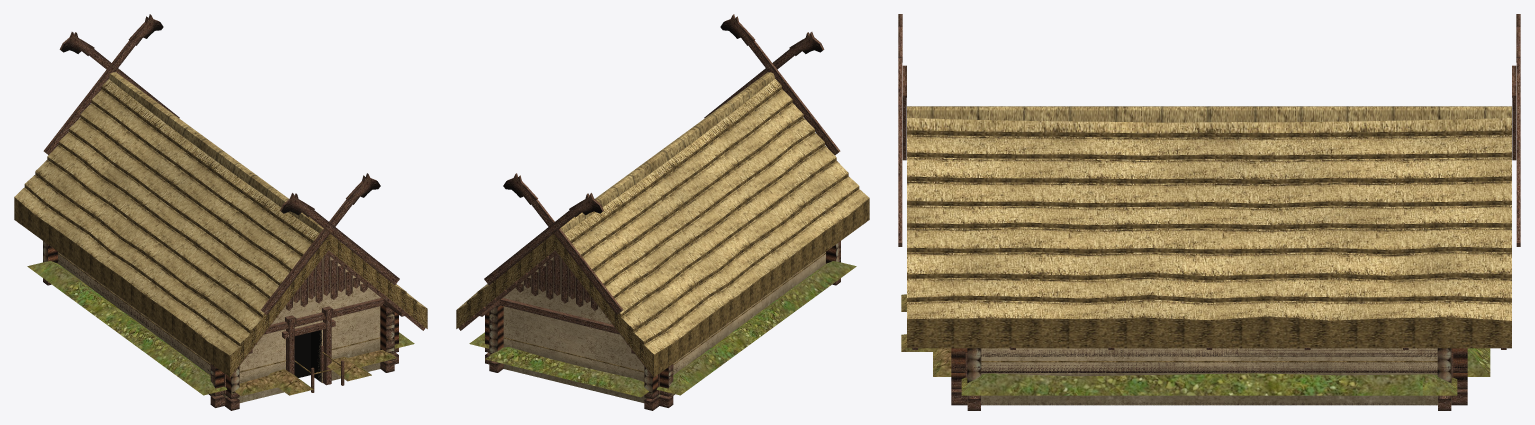
File: dvorec-construction.glb
3 views of the same model, side by side, from view 1: azimuth 30°, elevation 25°; view 2: azimuth 150°, elevation 25°; view 3: azimuth 270°, elevation 25° (orthographic). The views are drawn at different scales.
Parts seen in each view (by area): view 1: dvorec-daub, dvorec-thatch-1, dvorec-berms, dvorec-ridge, dvorec-thatch-3, dvorec-thatch-4, dvorec-thatch-7, dvorec-thatch-6, dvorec-thatch-2, dvorec-thatch-8, dvorec-thatch-5, dvorec-carving (+5 smaller); view 2: dvorec-daub, dvorec-thatch-1, dvorec-berms, dvorec-ridge, dvorec-thatch-3, dvorec-thatch-4, dvorec-thatch-7, dvorec-thatch-6, dvorec-thatch-2, dvorec-thatch-8, dvorec-thatch-5, dvorec-carving (+4 smaller); view 3: dvorec-thatch-1, dvorec-daub, dvorec-thatch-3, dvorec-thatch-4, dvorec-thatch-7, dvorec-thatch-6, dvorec-thatch-2, dvorec-thatch-8, dvorec-thatch-5, dvorec-berms, dvorec-ridge, dvorec-thatch-9 (+5 smaller).
Boxes of the visible parts, x1=… form: dvorec-daub: x1=43, y1=241, x2=398, y2=402; dvorec-thatch-1: x1=14, y1=184, x2=427, y2=377; dvorec-berms: x1=27, y1=261, x2=414, y2=396; dvorec-ridge: x1=43, y1=40, x2=399, y2=314; dvorec-thatch-3: x1=35, y1=157, x2=406, y2=350; dvorec-thatch-4: x1=47, y1=142, x2=394, y2=334; dvorec-thatch-7: x1=80, y1=100, x2=361, y2=292; dvorec-thatch-6: x1=69, y1=115, x2=372, y2=306; dvorec-thatch-2: x1=25, y1=172, x2=417, y2=363; dvorec-thatch-8: x1=91, y1=86, x2=350, y2=277; dvorec-thatch-5: x1=59, y1=129, x2=382, y2=319; dvorec-carving: x1=59, y1=14, x2=380, y2=310; dvorec-daub: x1=485, y1=242, x2=840, y2=402; dvorec-thatch-1: x1=456, y1=186, x2=869, y2=377; dvorec-berms: x1=469, y1=261, x2=856, y2=397; dvorec-ridge: x1=484, y1=40, x2=840, y2=314; dvorec-thatch-3: x1=477, y1=157, x2=848, y2=350; dvorec-thatch-4: x1=489, y1=142, x2=836, y2=334; dvorec-thatch-7: x1=522, y1=99, x2=803, y2=292; dvorec-thatch-6: x1=511, y1=115, x2=814, y2=306; dvorec-thatch-2: x1=466, y1=173, x2=858, y2=363; dvorec-thatch-8: x1=533, y1=86, x2=792, y2=277; dvorec-thatch-5: x1=501, y1=129, x2=824, y2=319; dvorec-carving: x1=503, y1=14, x2=824, y2=310; dvorec-thatch-1: x1=907, y1=295, x2=1511, y2=348; dvorec-daub: x1=951, y1=348, x2=1467, y2=405; dvorec-thatch-3: x1=907, y1=246, x2=1511, y2=276; dvorec-thatch-4: x1=907, y1=222, x2=1511, y2=249; dvorec-thatch-7: x1=907, y1=152, x2=1511, y2=179; dvorec-thatch-6: x1=907, y1=176, x2=1511, y2=203; dvorec-thatch-2: x1=907, y1=272, x2=1511, y2=298; dvorec-thatch-8: x1=907, y1=130, x2=1511, y2=155; dvorec-thatch-5: x1=907, y1=200, x2=1511, y2=225; dvorec-berms: x1=901, y1=294, x2=1490, y2=395; dvorec-ridge: x1=898, y1=58, x2=1520, y2=246; dvorec-thatch-9: x1=907, y1=118, x2=1511, y2=133.
Bounding box in the file's own units: 5.95 × 5.92 × 10.8.
1 material, 1 textured.
